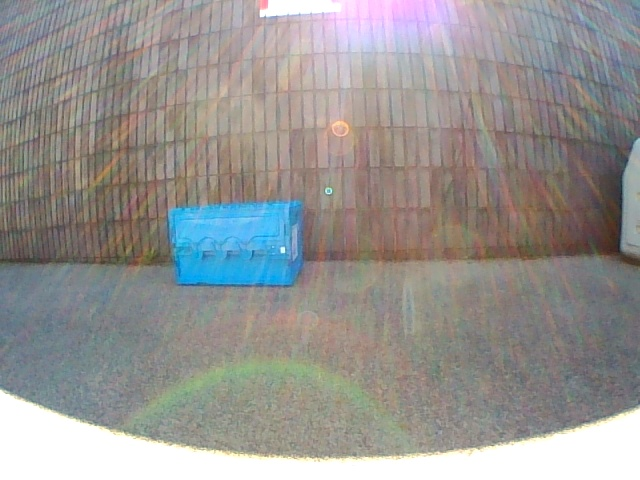blue_box: (168, 202, 302, 286)
tag: (291, 228, 297, 259)
